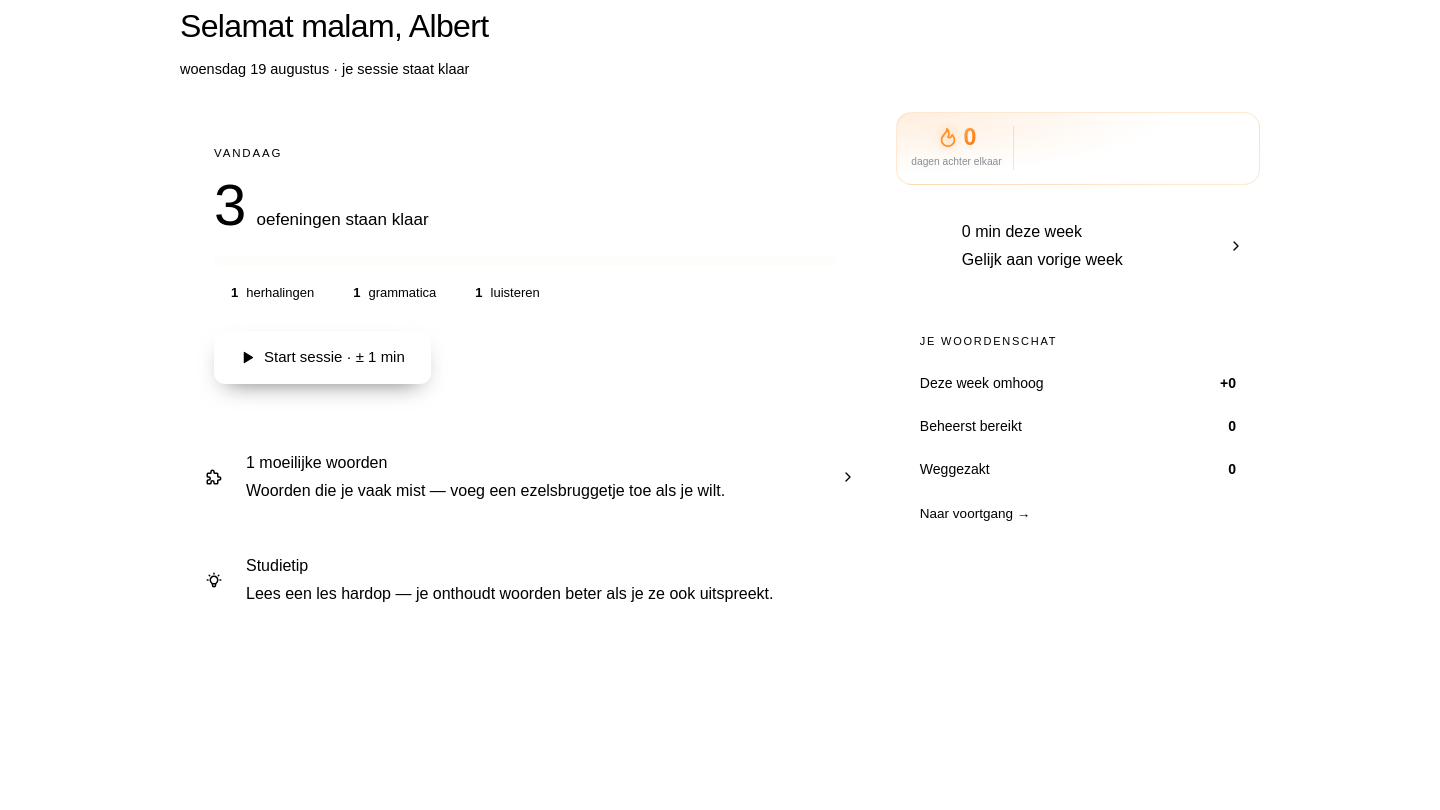
Test case: Dashboard — troublesome words nudge › opens the picker sheet on tap, scoped to the same un-hooked words
Click the text "1 moeilijke woorden" at (317, 462), box x1=246 y1=454 x2=387 y2=471
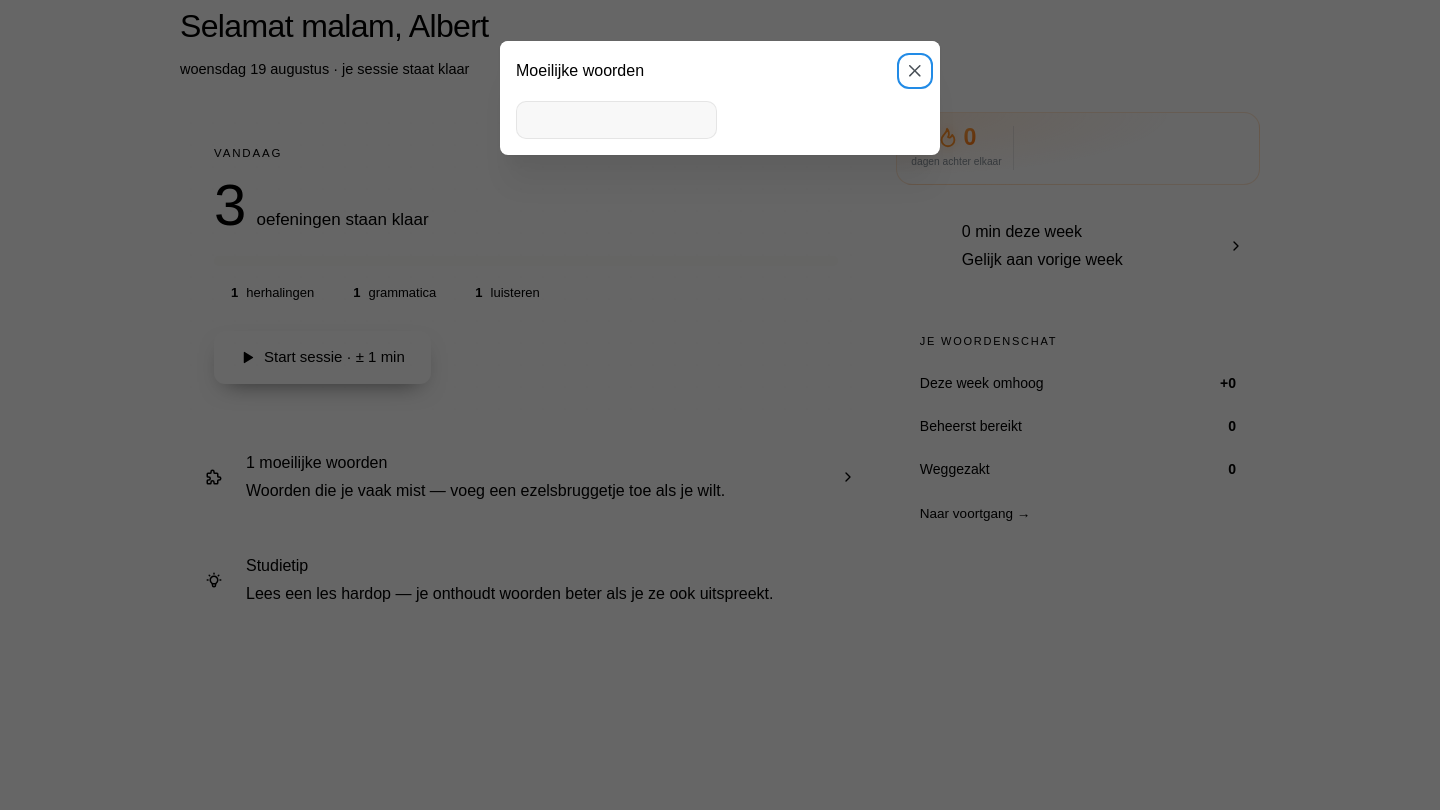
expect the heading "Moeilijke woorden" is shown: met, box x1=516 y1=62 x2=644 y2=78
